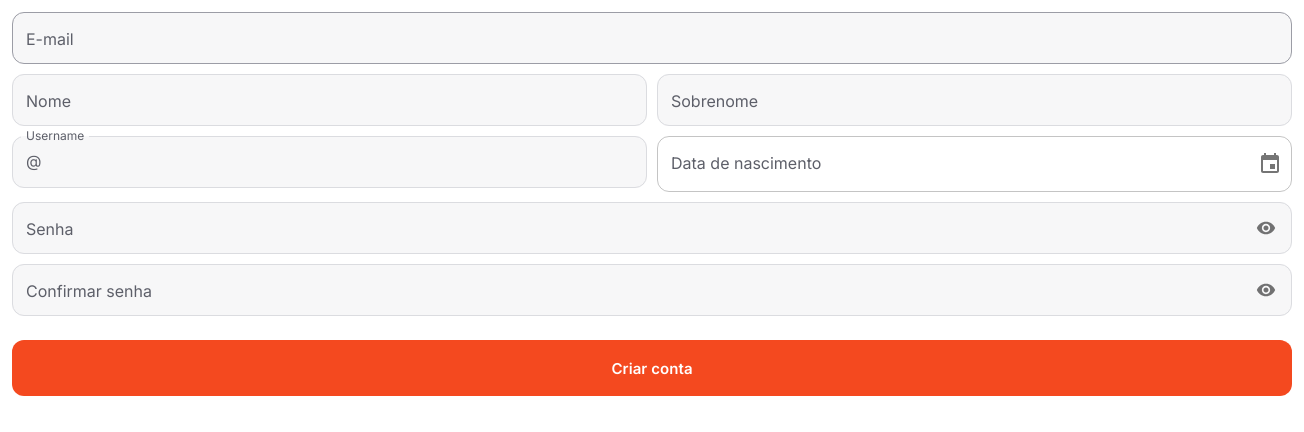
Test: CreateAccountForm › checks availability (debounced) and reports an unavailable username
Type "admin" into the field labelled "Username" at (348, 162), box [50,136,647,188]
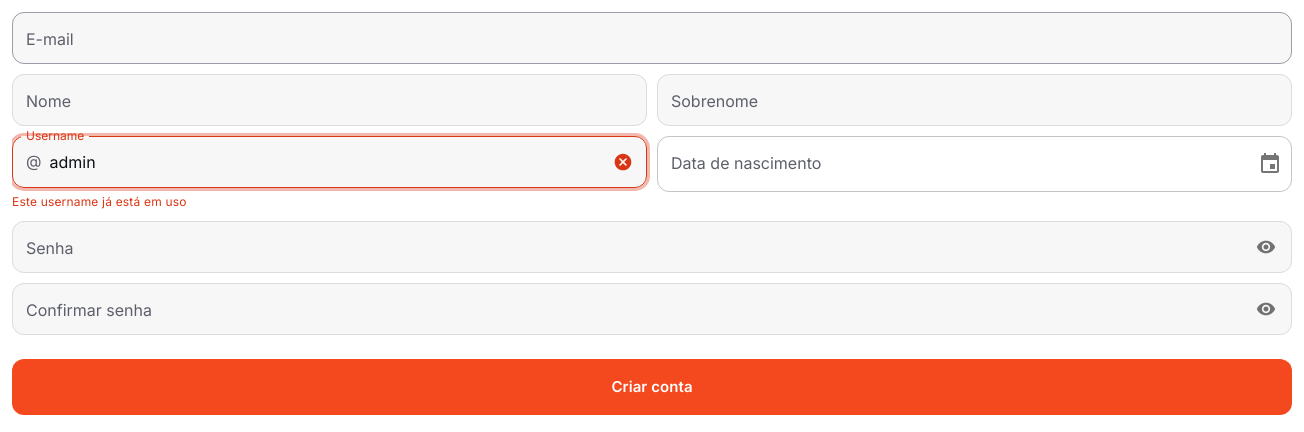
Now the text "Este username já está em uso" is shown, box [12,194,187,209]
